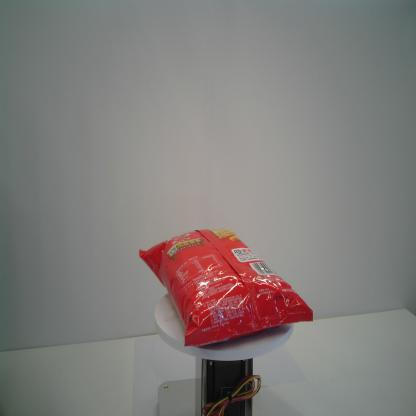Puffed Food: (136, 224, 315, 349)
